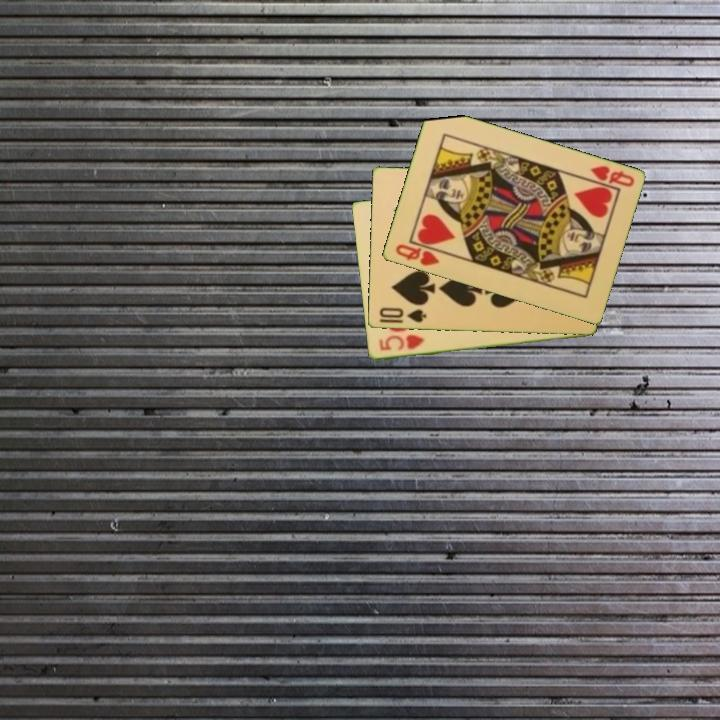10s: (376, 304, 429, 326)
5h: (375, 331, 427, 354)
Qh: (392, 241, 442, 269), (587, 162, 637, 190)
